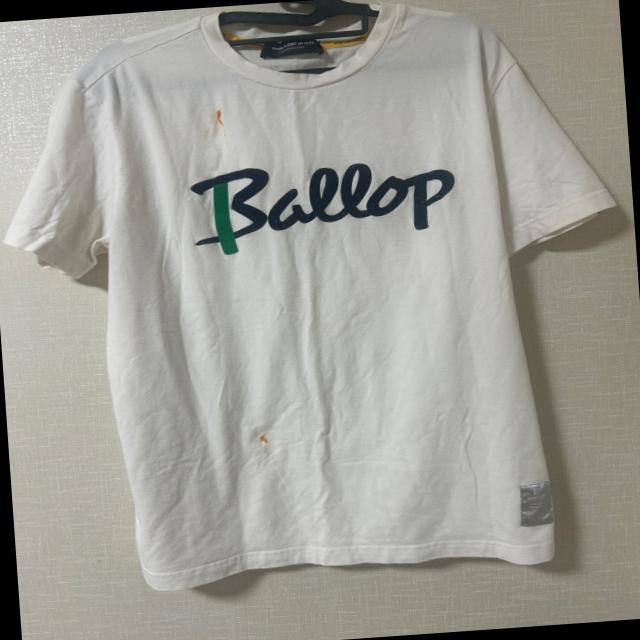stain: (212, 105, 232, 134), (254, 428, 276, 452)
